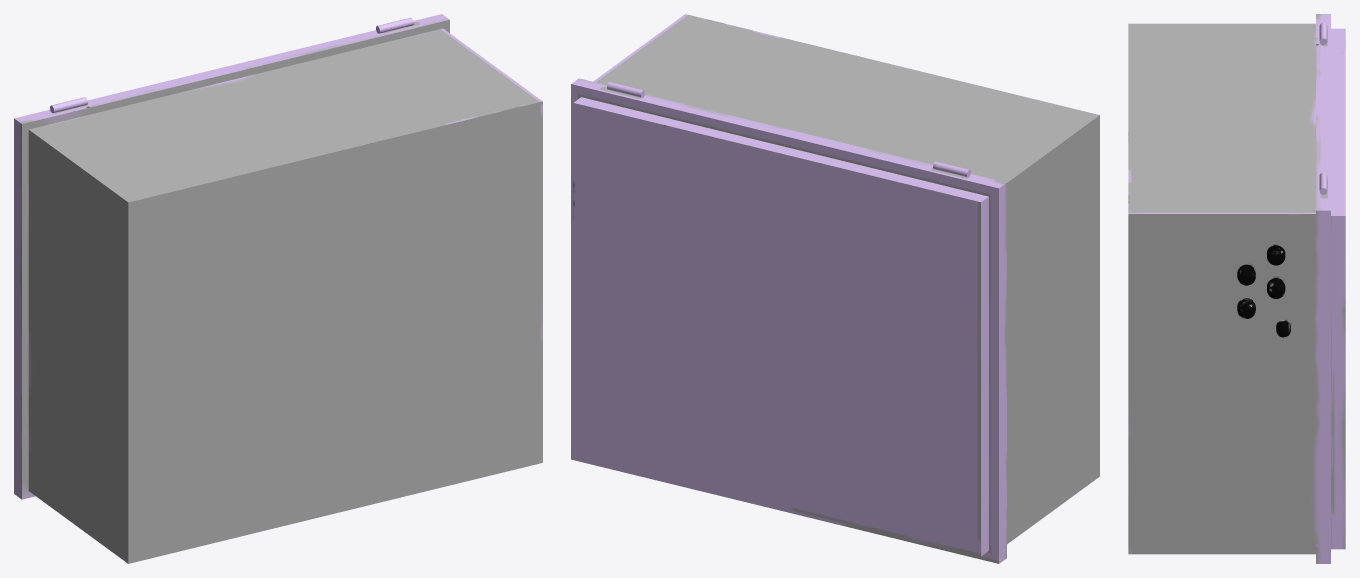
Rendered from power.dae.
The picture shows the model from 3 angles, left to right: view 1: azimuth 30°, elevation 25°; view 2: azimuth 150°, elevation 25°; view 3: azimuth 270°, elevation 25°; orthographic projection. The views are drawn at different scales.
Visible parts, largest first — view 1: power_box_v1; view 2: power_box_v1; view 3: power_box_v1.
Part boxes in pixels (x1=…): power_box_v1: x1=14, y1=14, x2=542, y2=563; power_box_v1: x1=571, y1=14, x2=1099, y2=563; power_box_v1: x1=1128, y1=14, x2=1345, y2=563.
Bounding box in the file's own units: 0.6395 × 0.294 × 0.543.
Materials: 1 (1 with a texture image).
